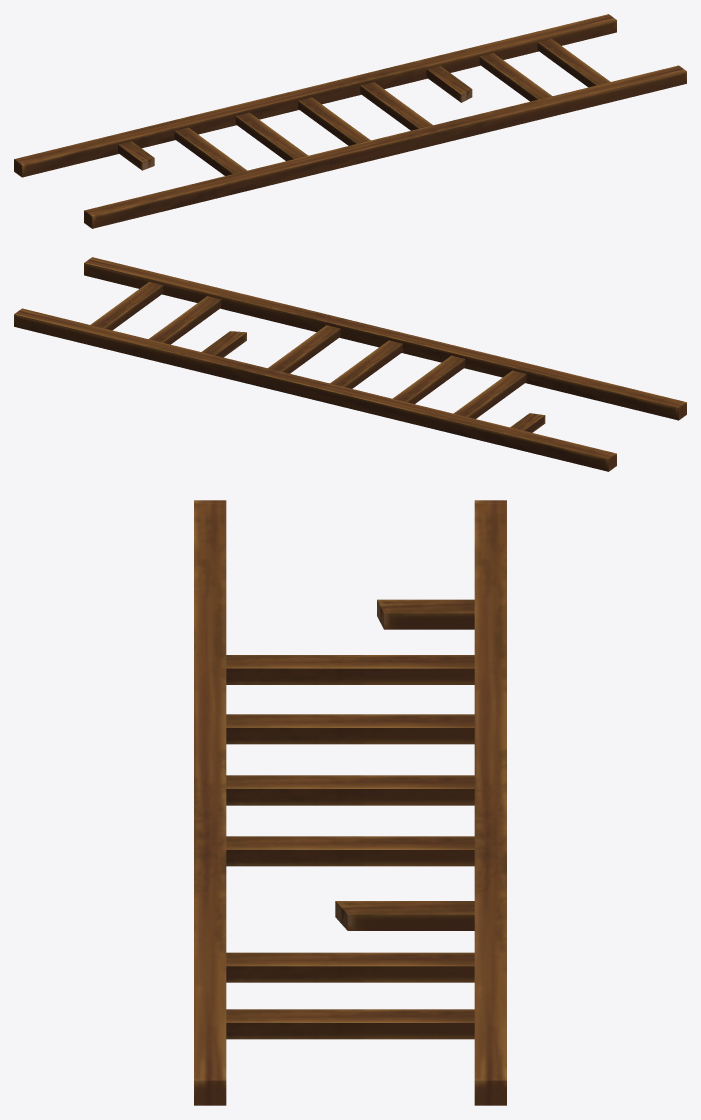
File: Stage_01_01_TiZi01.FBX
3 renders of one model, top to bottom at view 1: azimuth 30°, elevation 25°; view 2: azimuth 150°, elevation 25°; view 3: azimuth 270°, elevation 25°, orthographic. The views are drawn at different scales.
Visible parts, largest first — view 1: Stage_01_01_TiZi01; view 2: Stage_01_01_TiZi01; view 3: Stage_01_01_TiZi01.
Part boxes in pixels (left/top/right/bottom): Stage_01_01_TiZi01: left=14, top=14, right=686, bottom=228; Stage_01_01_TiZi01: left=14, top=257, right=686, bottom=471; Stage_01_01_TiZi01: left=194, top=500, right=506, bottom=1105.
Size of the model in its own units: 703 by 14.05 by 160.
